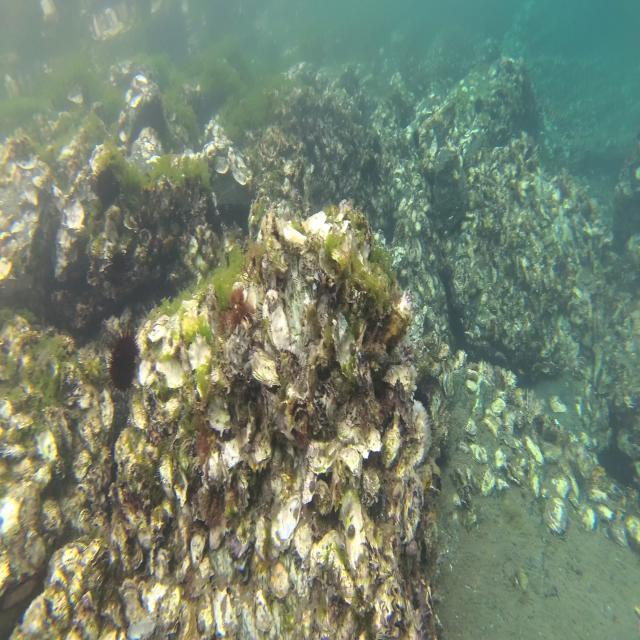echinus: (106, 327, 142, 400), (91, 163, 124, 214), (471, 91, 486, 121)
